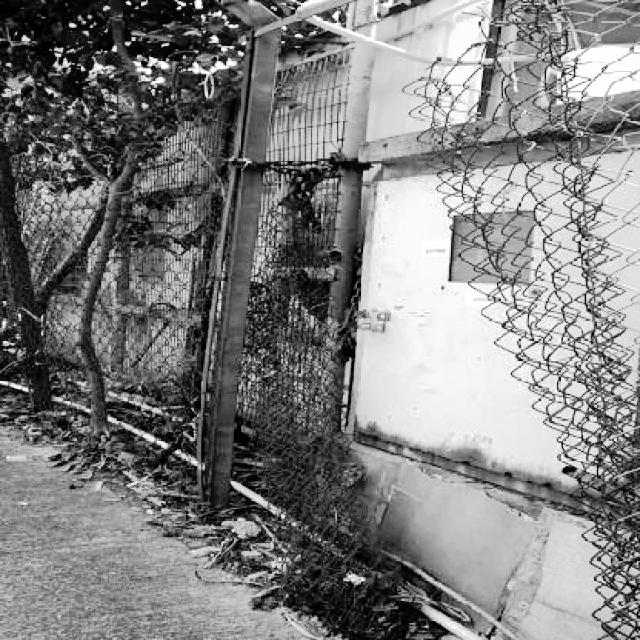anomaly-fence: (172, 4, 640, 638)
